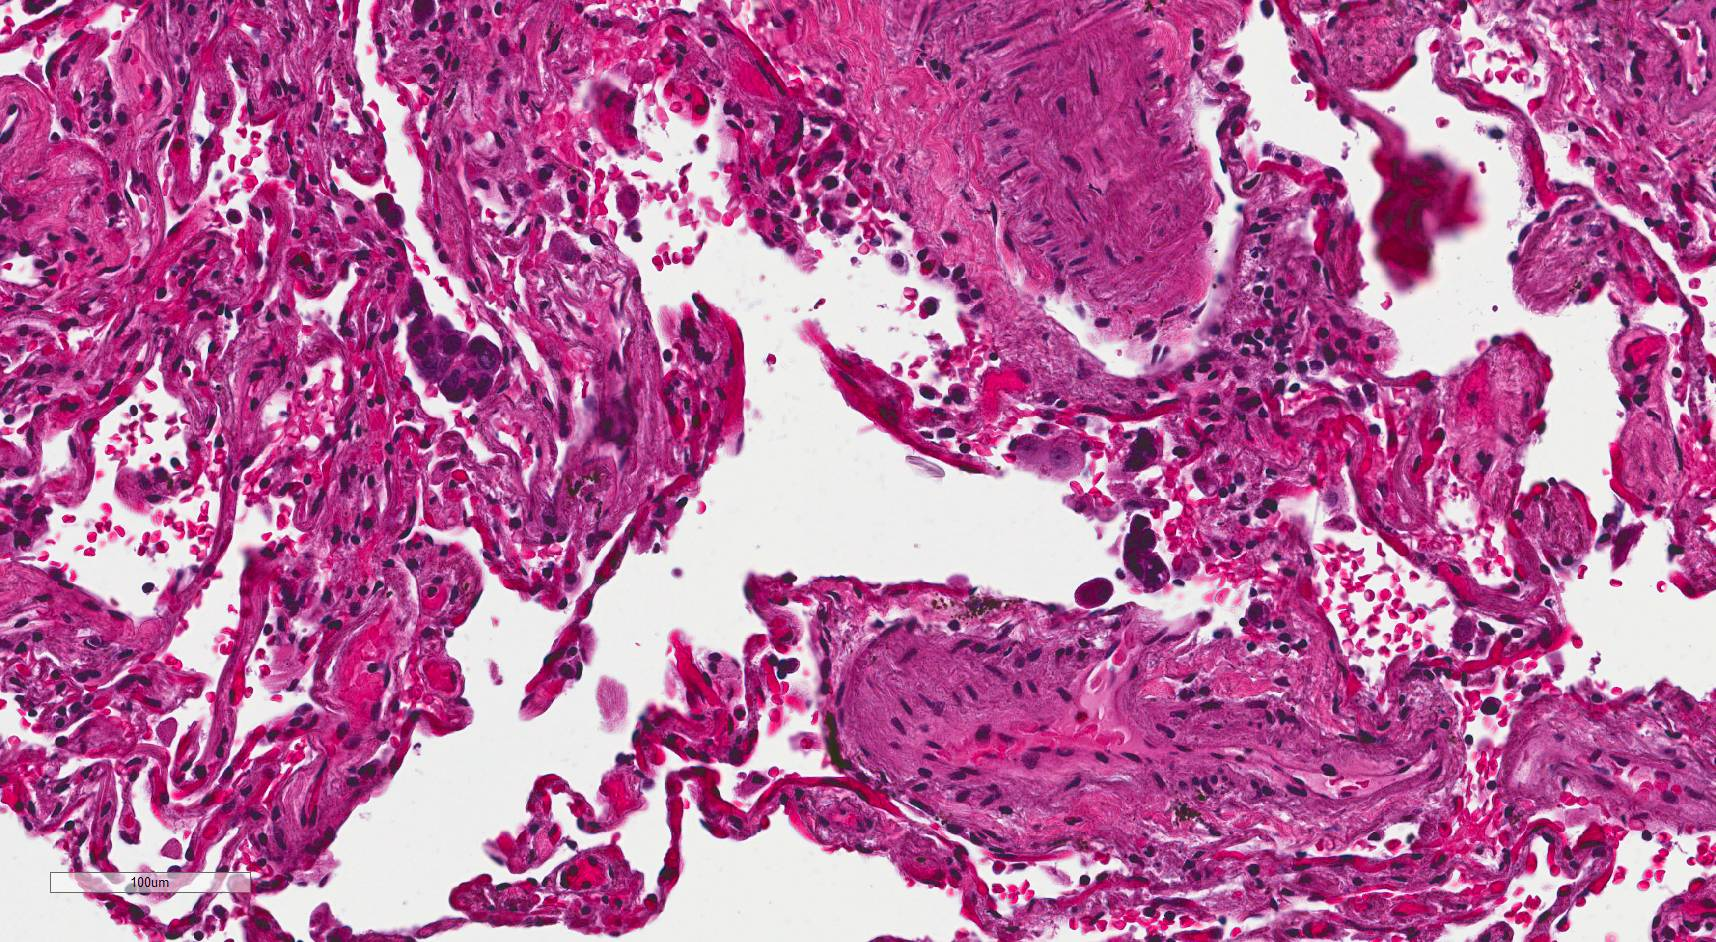stas: (398, 280, 496, 410), (1119, 513, 1177, 596)
